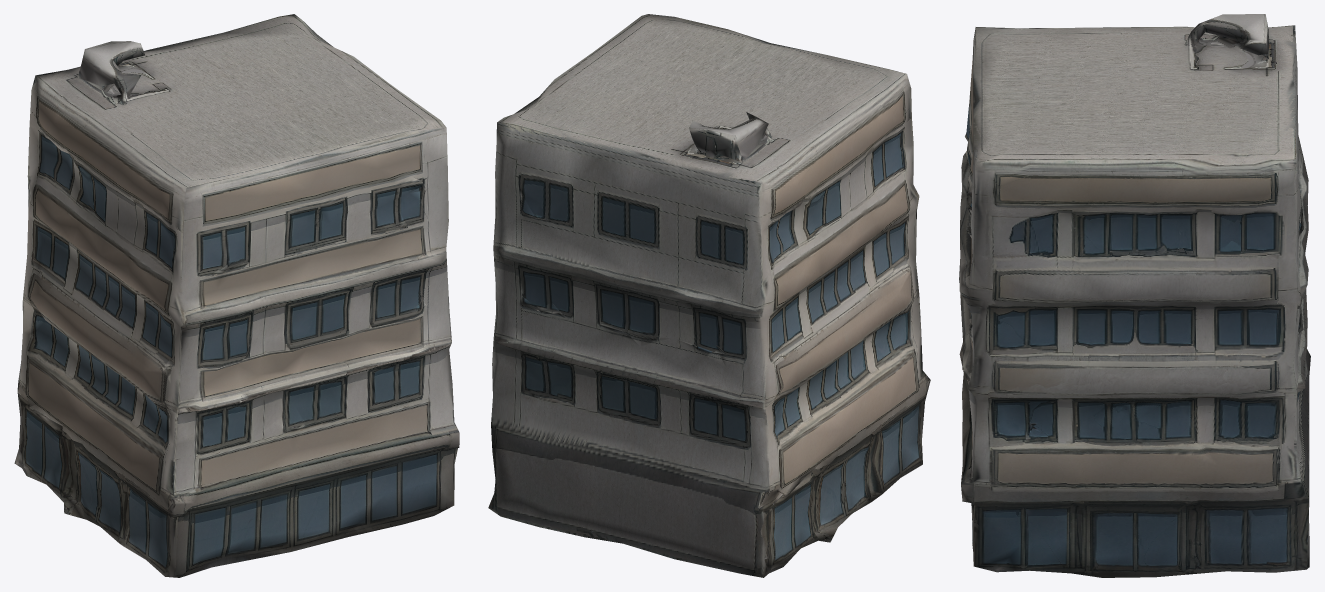
Rendered from KR_Sangga_02_Lod.glb.
The picture shows the model from 3 angles, left to right: view 1: azimuth 30°, elevation 25°; view 2: azimuth 150°, elevation 25°; view 3: azimuth 270°, elevation 25°; orthographic projection. The views are drawn at different scales.
Visible parts, largest first — view 1: texture_mapping; view 2: texture_mapping; view 3: texture_mapping.
Part boxes in pixels (bbox=[...]): texture_mapping: bbox=[14, 14, 459, 577]; texture_mapping: bbox=[488, 14, 930, 577]; texture_mapping: bbox=[959, 14, 1310, 577].
Bounding box in the file's own units: 0.7184 × 0.9818 × 0.7014.
1 material, 1 textured.
